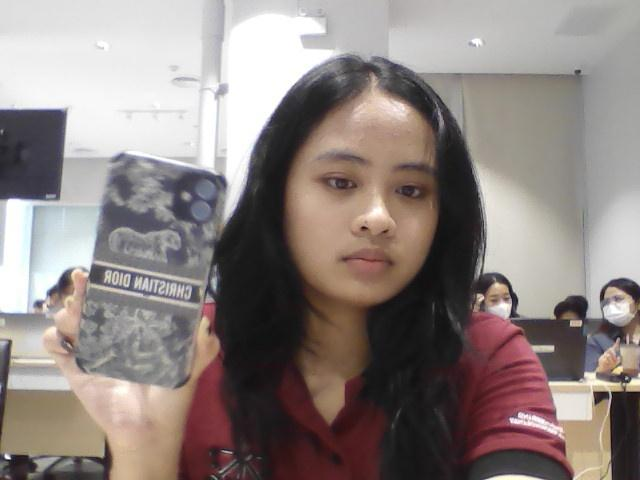iphone: (98, 146, 215, 393)
